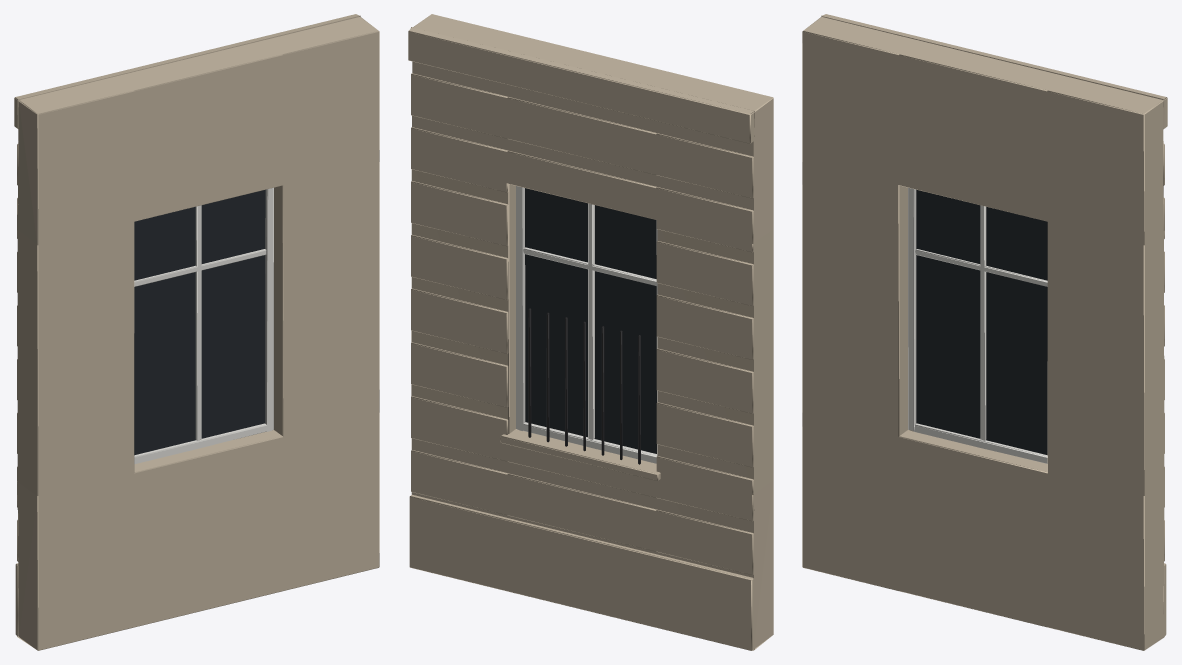
Rendered from SM_VB_FacA_GroundWindow.fbx.
3 renders of one model, left to right at view 1: azimuth 30°, elevation 25°; view 2: azimuth 150°, elevation 25°; view 3: azimuth 330°, elevation 25°, orthographic.
Visible parts, largest first — view 1: SM_VB_FacA_GroundWindow; view 2: SM_VB_FacA_GroundWindow; view 3: SM_VB_FacA_GroundWindow.
Part boxes in pixels (x1=…): SM_VB_FacA_GroundWindow: x1=14, y1=14, x2=379, y2=650; SM_VB_FacA_GroundWindow: x1=408, y1=14, x2=773, y2=650; SM_VB_FacA_GroundWindow: x1=802, y1=14, x2=1167, y2=650.
Bounding box in the file's own units: 3.01 × 4.51 × 0.36.
